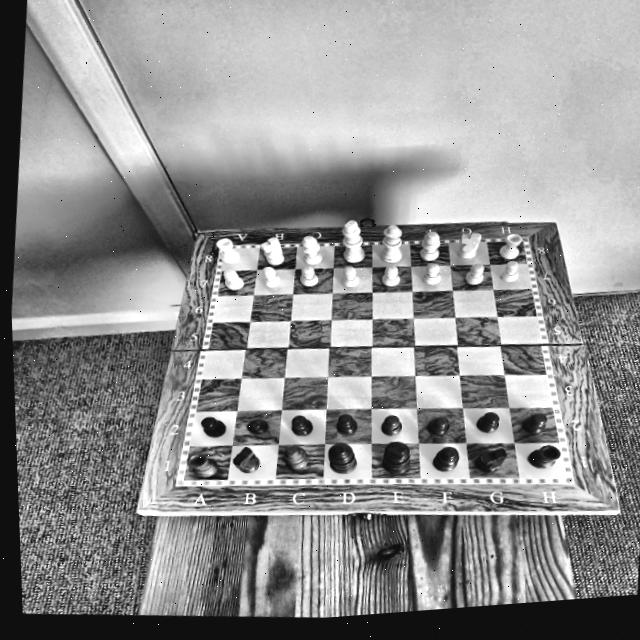black-bishop: (428, 443, 465, 475), (280, 441, 315, 474)
black-king: (381, 439, 415, 476)
black-knight: (473, 443, 513, 475), (229, 443, 262, 477)
black-pawn: (282, 411, 323, 440), (376, 409, 410, 442), (519, 407, 552, 439), (330, 409, 365, 439), (474, 406, 504, 440), (194, 414, 231, 441), (426, 413, 451, 439), (244, 416, 272, 436)
black-queen: (323, 439, 363, 477)
black-rook: (183, 449, 224, 483), (525, 440, 562, 473)
white-bishop: (296, 232, 329, 267), (416, 229, 447, 262)
white-king: (338, 217, 369, 265)
white-knight: (257, 235, 289, 267), (455, 227, 483, 260)
white-pawn: (338, 262, 367, 292), (218, 266, 248, 294), (294, 263, 325, 290), (255, 264, 287, 289), (378, 263, 405, 289), (419, 262, 446, 288), (498, 257, 521, 286), (465, 262, 488, 289)
white-queen: (377, 223, 409, 264)
white-rook: (213, 234, 246, 267), (496, 229, 526, 261)
